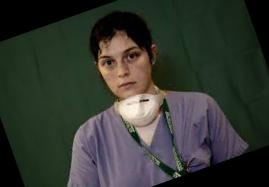mask_weared_incorrect: (98, 41, 164, 119)
